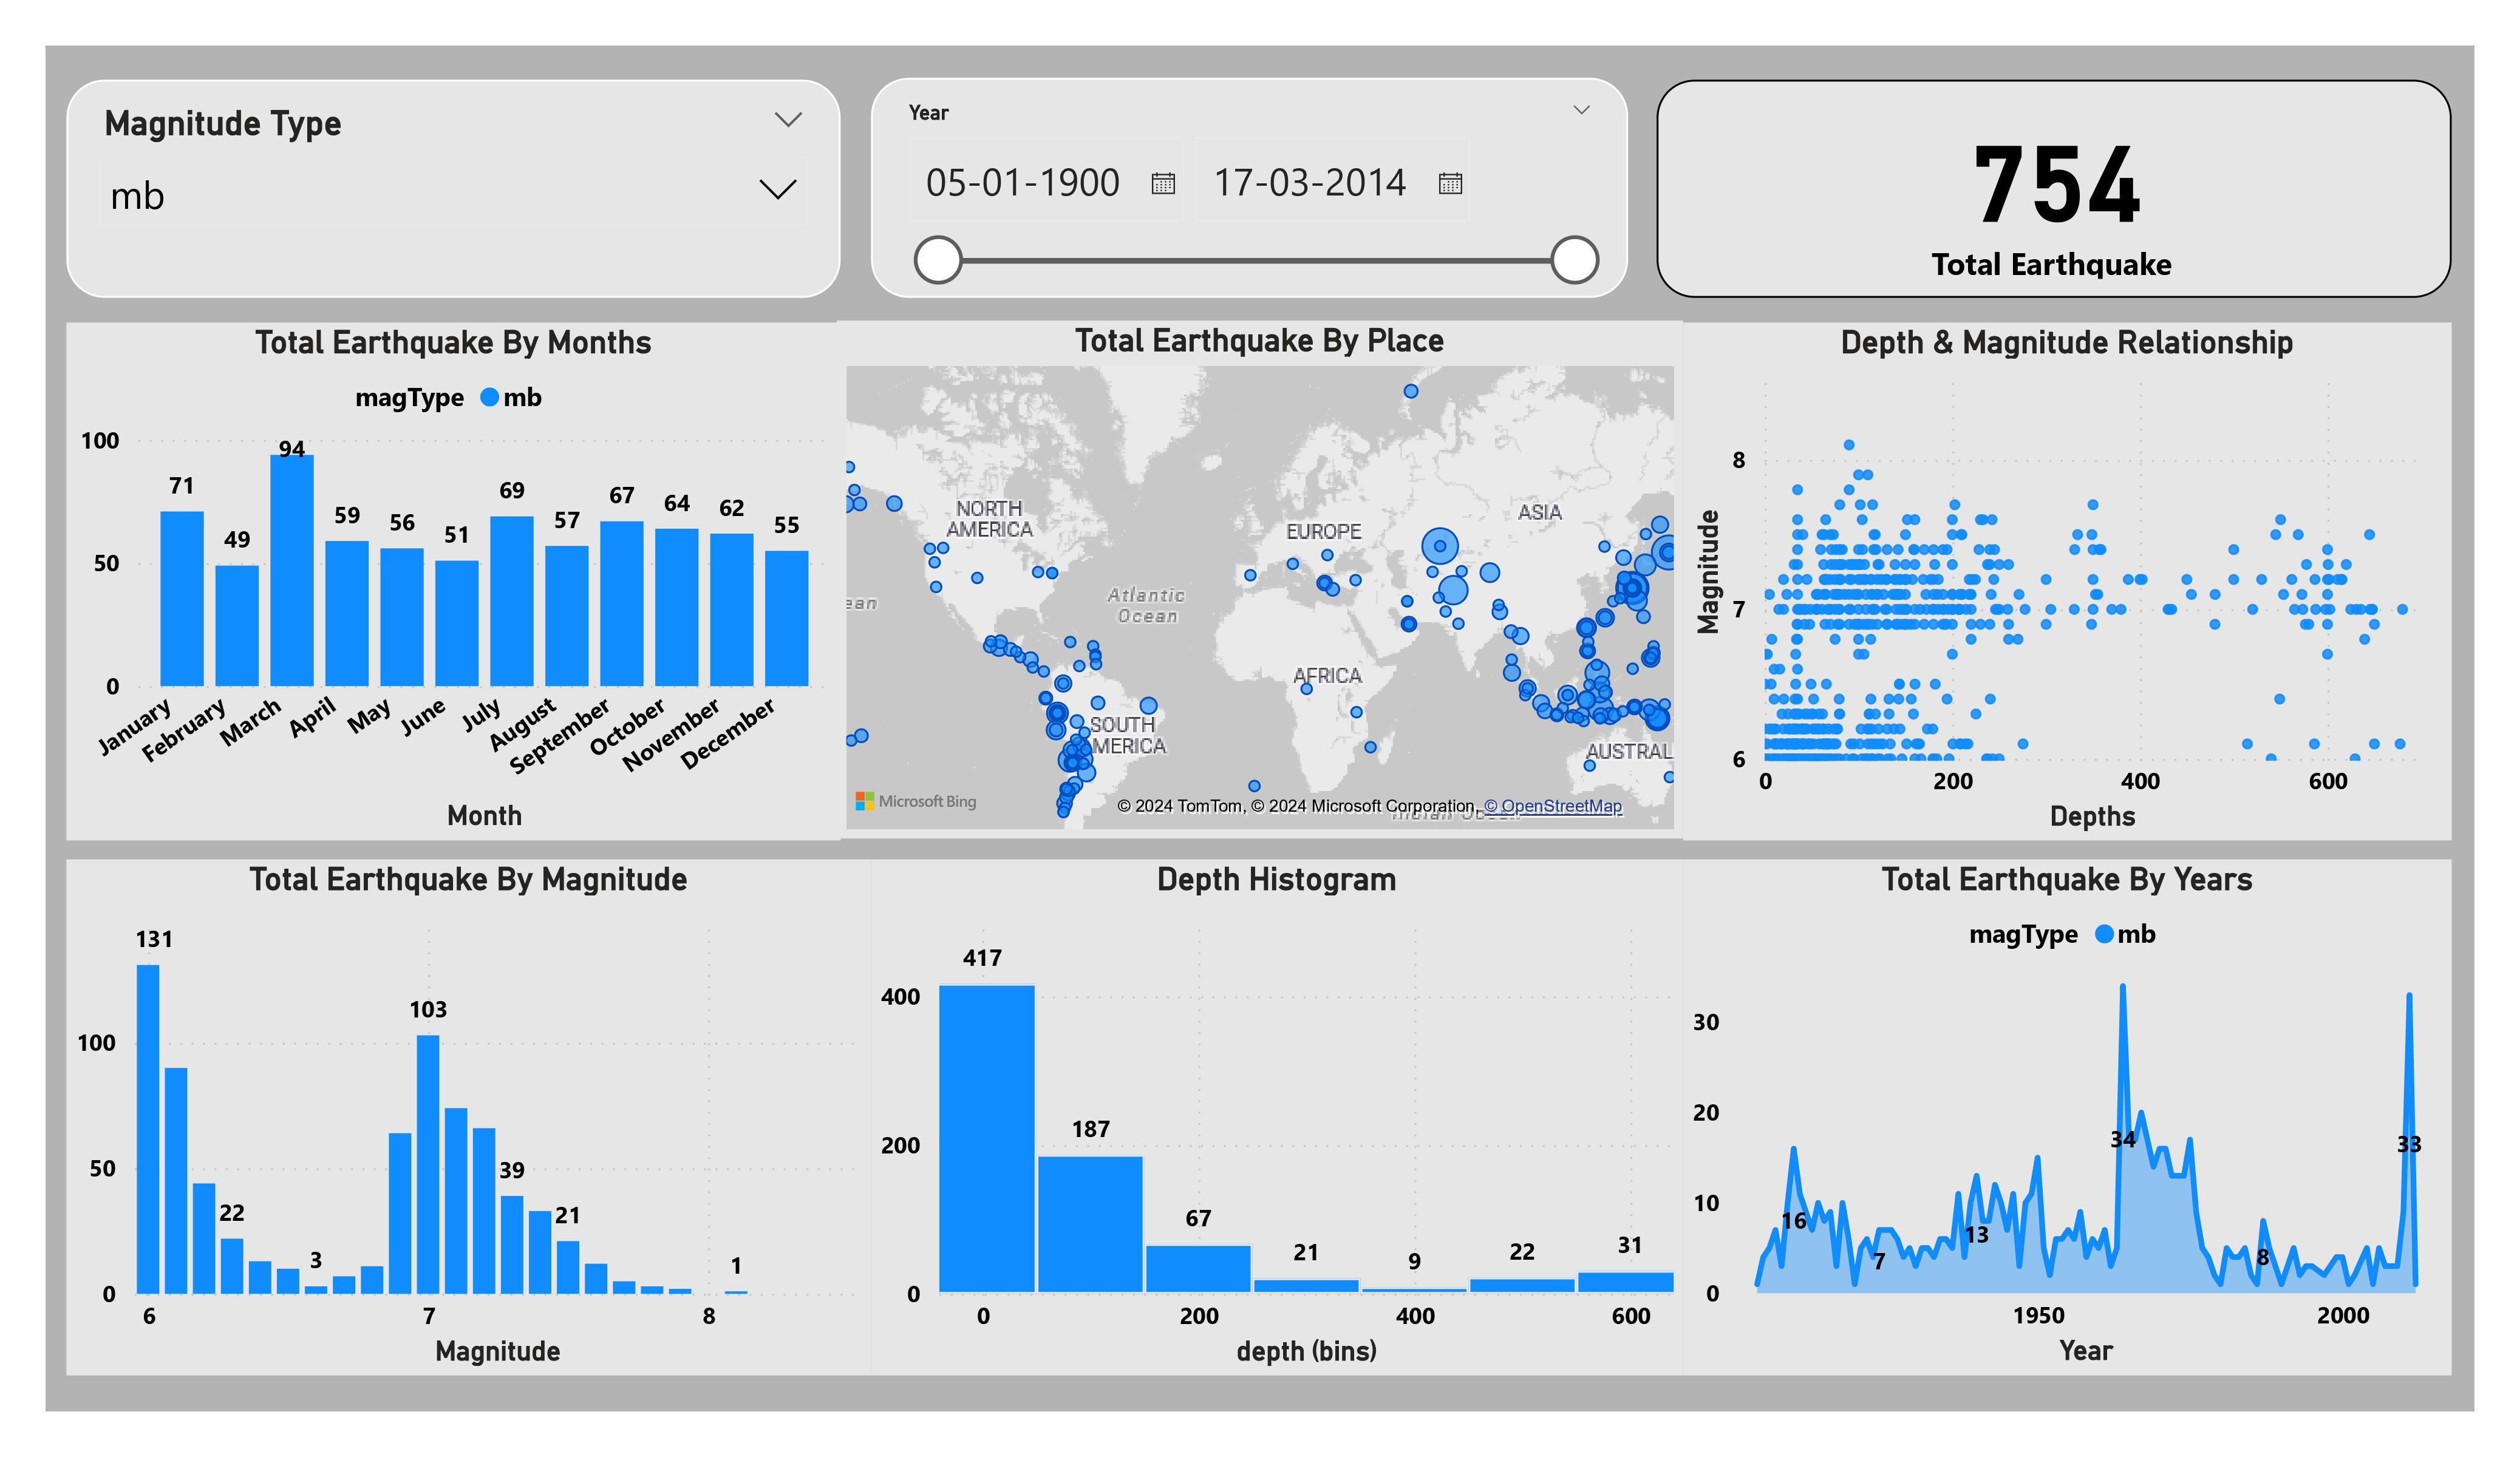

The dashboard page shown, as its layout file describes it:
{"tool":"powerbi","page":{"name":"Page 1","canvas":[1280,720],"ordinal":0},"visuals":[{"type":"slicer","fields":{"Values":["query.magType"]},"box":[10.6,18.2,408,115.3],"z":0},{"type":"slicer","fields":{"Values":["query.Date"]},"box":[435.3,16.7,398.9,116.8],"z":1000},{"type":"card","fields":{"Values":["CountNonNull(query.id)"]},"box":[849.3,18.2,418.6,115.3],"z":2000},{"type":"columnChart","title":"Total Earthquake By Months","fields":{"Category":["query.Date.Variation.Date Hierarchy.Month"],"Y":["CountNonNull(query.id)"],"Series":["query.magType"]},"box":[10.6,145.6,408,273],"z":3000},{"type":"clusteredColumnChart","title":"Total Earthquake By Magnitude ","fields":{"Category":["query.mag"],"Y":["CountNonNull(query.id)"]},"box":[10.6,429.2,424.6,271.5],"z":4000},{"type":"stackedAreaChart","title":"Total Earthquake By Years","fields":{"Category":["query.Date.Variation.Date Hierarchy.Year"],"Y":["CountNonNull(query.id)"],"Series":["query.magType"]},"box":[862.9,429.2,404.9,271.5],"z":5000},{"type":"columnChart","title":"Depth Histogram","fields":{"Y":["CountNonNull(query.id)"],"Series":["query.magType"],"Category":["query.depth (bins)"]},"box":[435.3,429.2,427.7,271.5],"z":6000},{"type":"scatterChart","title":"Depth & Magnitude  Relationship ","fields":{"X":["query.depth"],"Y":["query.mag"]},"box":[862.9,145.6,404.9,273],"z":7000},{"type":"map","title":"Total Earthquake By Place","fields":{"Size":["CountNonNull(query.id)"],"Category":["query.place"]},"box":[417.2,145.2,446.2,273.1],"z":8000}]}

Visuals, with their boxes in screenshot pixels (x1, y1, x2, y2):
slicer - query.magType: 66,80,840,299
slicer - query.Date: 871,77,1629,299
card - CountNonNull(query.id): 1657,80,2451,299
"Total Earthquake By Months" columnChart: 66,322,840,840
"Total Earthquake By Magnitude " clusteredColumnChart: 66,860,871,1375
"Total Earthquake By Years" stackedAreaChart: 1683,860,2451,1375
"Depth Histogram" columnChart: 871,860,1683,1375
"Depth & Magnitude  Relationship " scatterChart: 1683,322,2451,840
"Total Earthquake By Place" map: 837,321,1684,839
